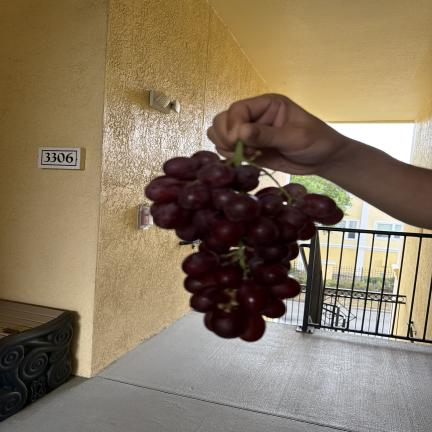grape_cluster: (145, 142, 343, 342)
